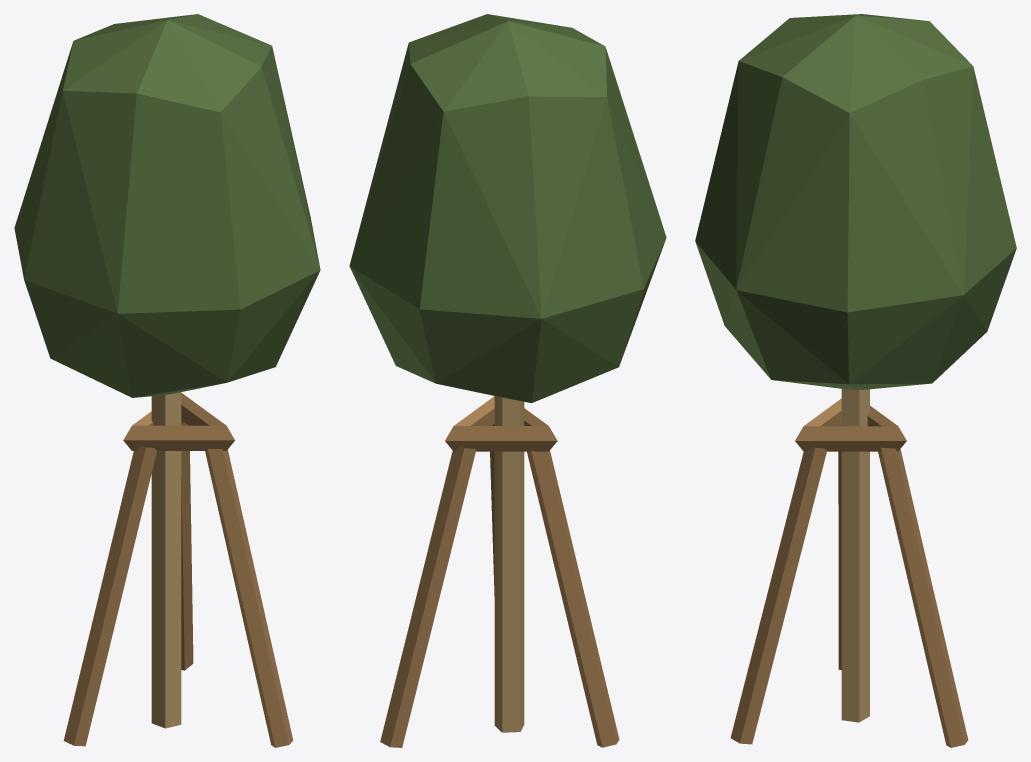
File: tree_13.fbx
The picture shows the model from 3 angles, left to right: view 1: azimuth 30°, elevation 25°; view 2: azimuth 150°, elevation 25°; view 3: azimuth 270°, elevation 25°; orthographic projection.
Visible parts, largest first — view 1: tree_13; view 2: tree_13; view 3: tree_13.
Boxes of the visible parts, box(x1,y1,x2,y2) form: tree_13: box(14, 14, 320, 747); tree_13: box(349, 14, 666, 747); tree_13: box(695, 14, 1016, 747).
Bounding box in the file's own units: 1.8 × 1.8 × 4.34.
